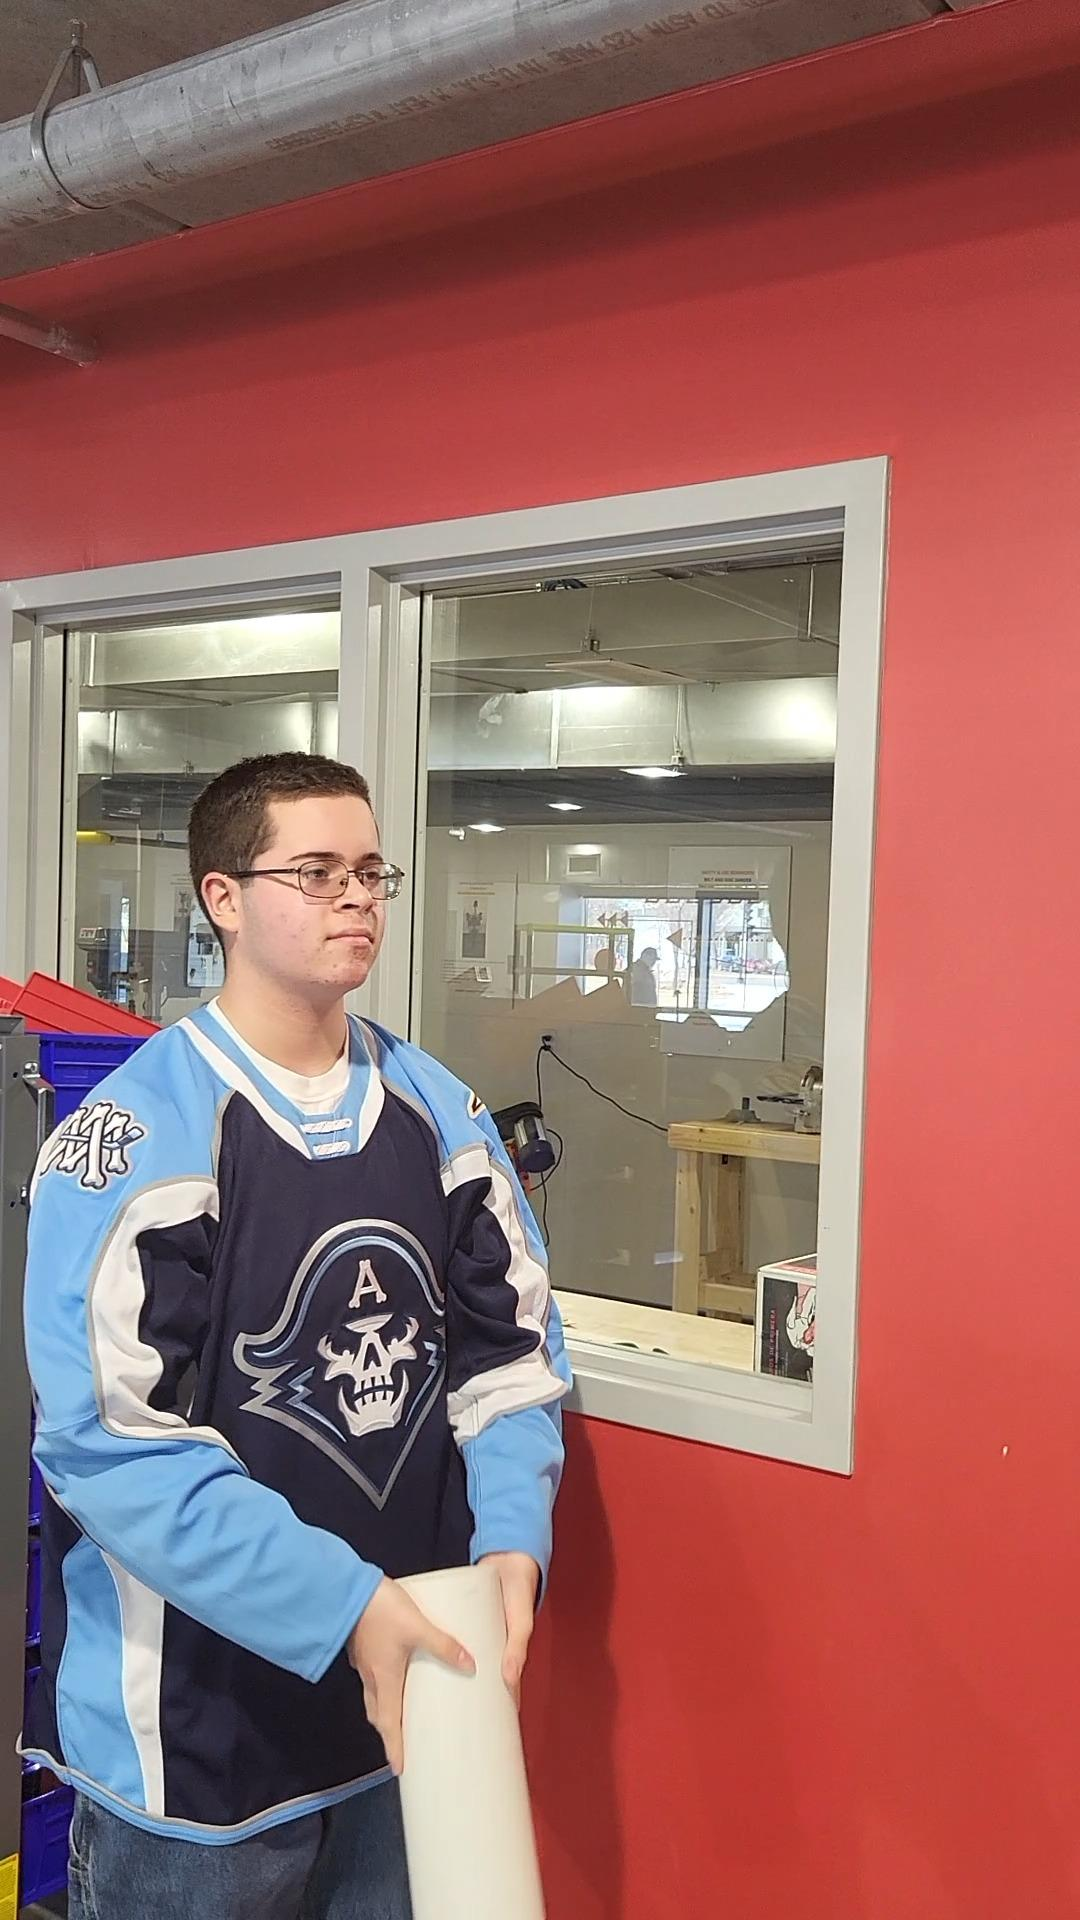coral: (360, 1567, 570, 1920)
